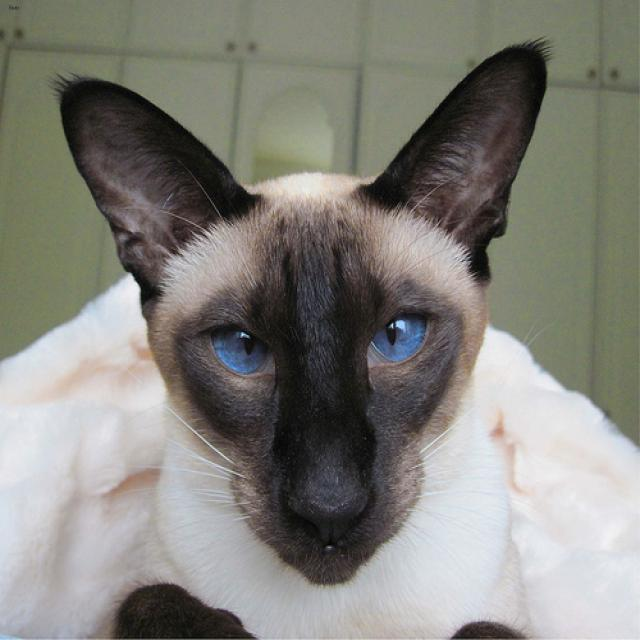Siamese: (57, 45, 549, 590)
